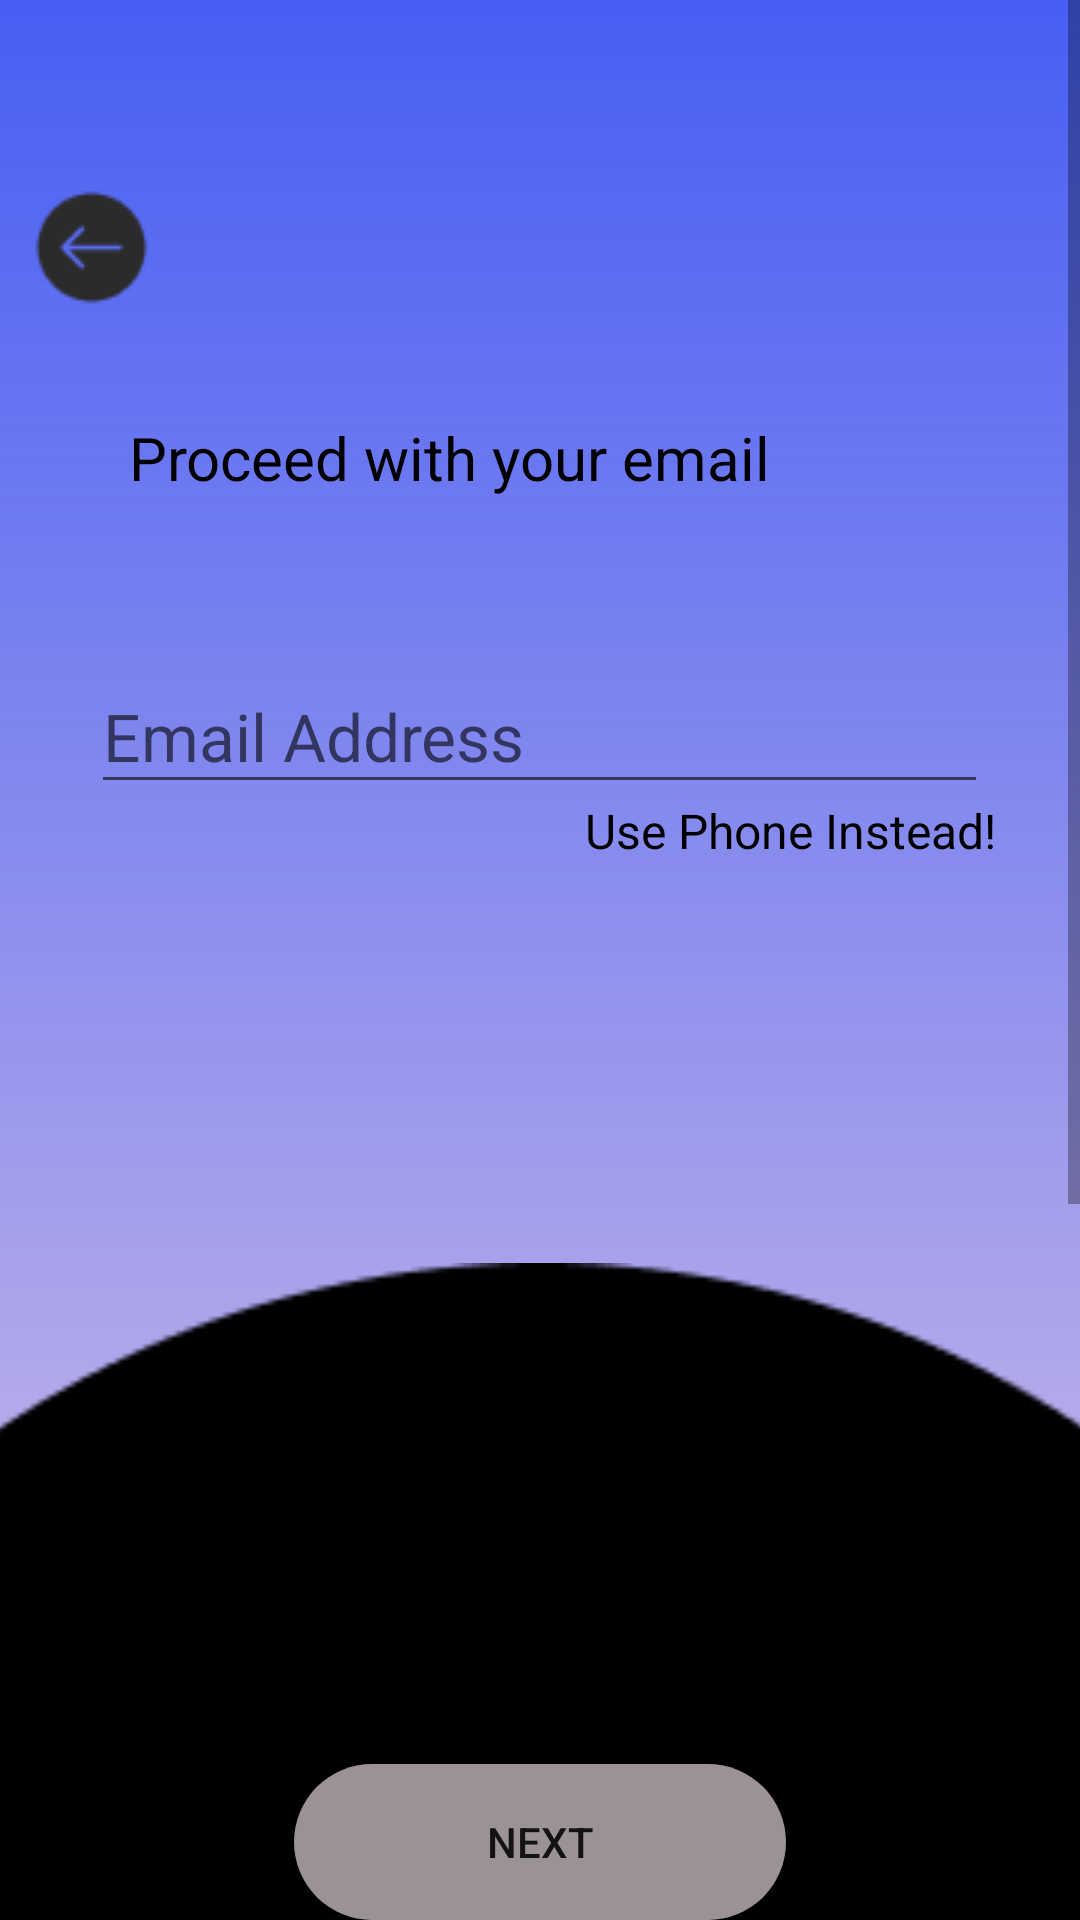

Icons on this 1080x1920 Android screen, each with the point to tap as (x,y):
back arrow ek: (91,247)
